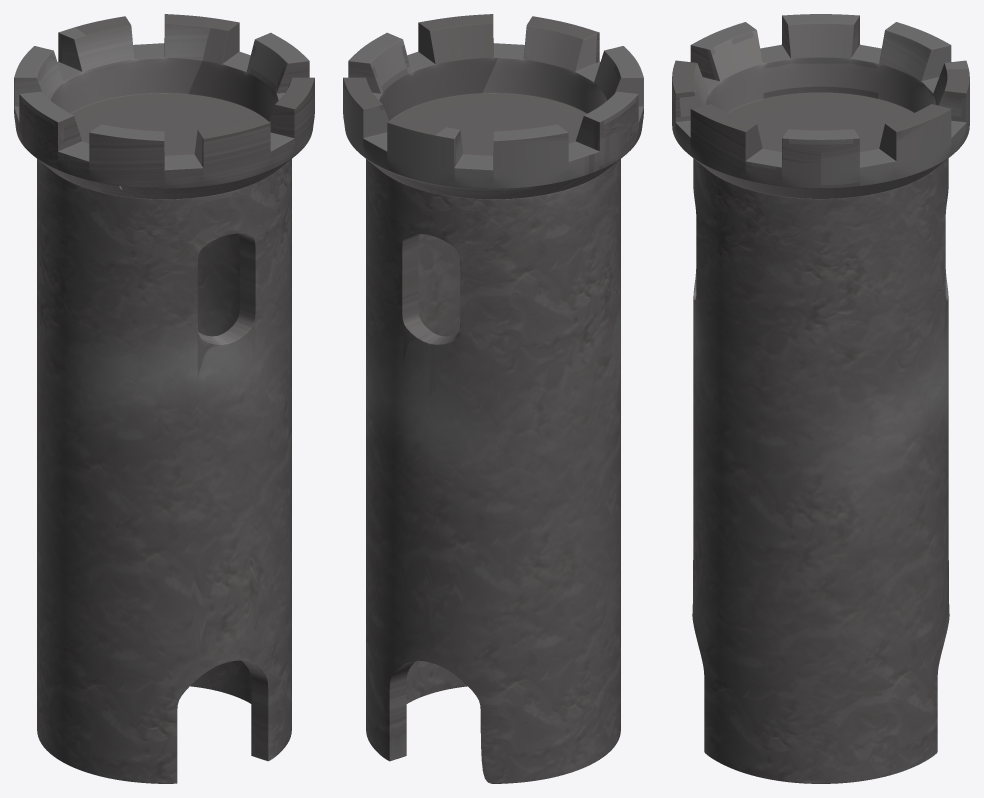
The model's file is Tower_1_FinalB.fbx.
The picture shows the model from 3 angles, left to right: view 1: azimuth 30°, elevation 25°; view 2: azimuth 150°, elevation 25°; view 3: azimuth 270°, elevation 25°; orthographic projection.
Parts seen in each view (by area): view 1: Cylinder, Cylinder.001; view 2: Cylinder, Cylinder.001; view 3: Cylinder, Cylinder.001.
Part boxes in pixels (<box>): Cylinder: <box>37,159,291,783</box>; Cylinder.001: <box>14,14,314,199</box>; Cylinder: <box>366,159,620,783</box>; Cylinder.001: <box>343,14,643,199</box>; Cylinder: <box>692,158,949,783</box>; Cylinder.001: <box>672,14,969,198</box>.
Size of the model in its own units: 692 by 1675 by 692.
